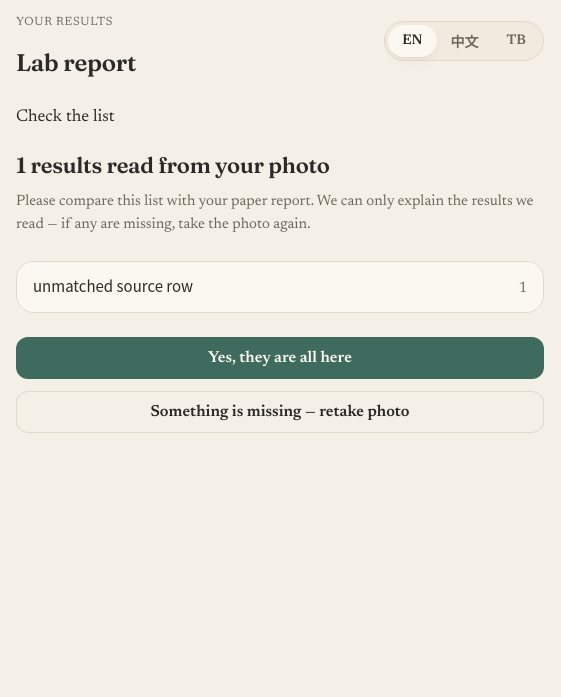
Test: ResultPage language toggle › offers TB and visibly explains its screen-level Chinese fallback
Click the button "TB" at (516, 41), box [492, 25, 540, 57]
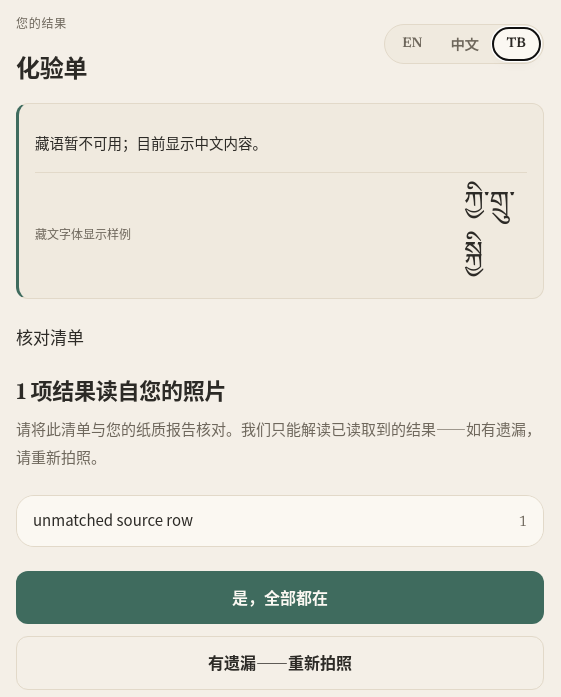
Expected: the element with test id "tibetan-availability" shows "藏语暂不可用；目前显示中文内容。", [35, 132, 267, 153]
